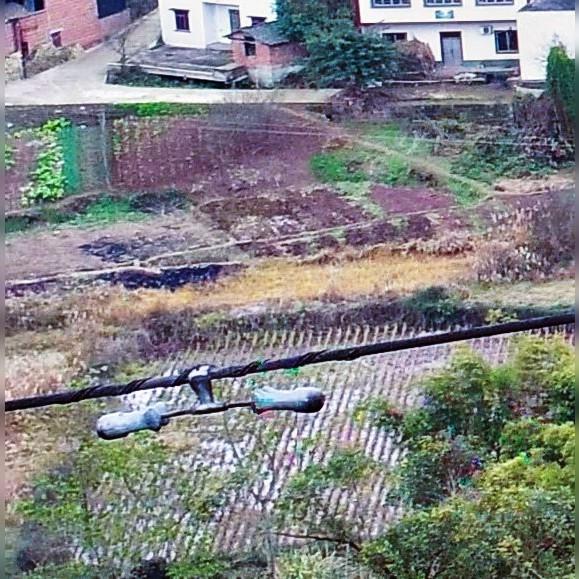Shockproof hammer: (93, 350, 331, 449)
